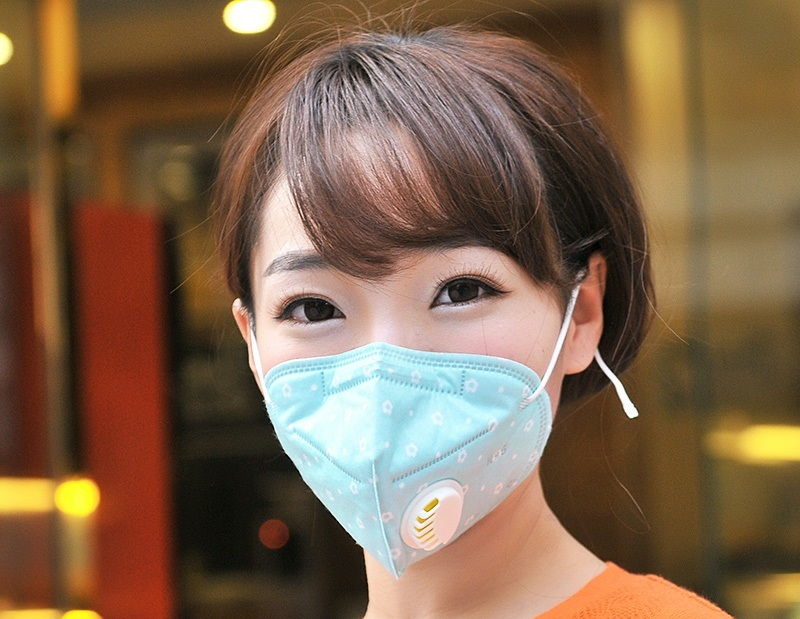face_mask: (256, 189, 560, 539)
